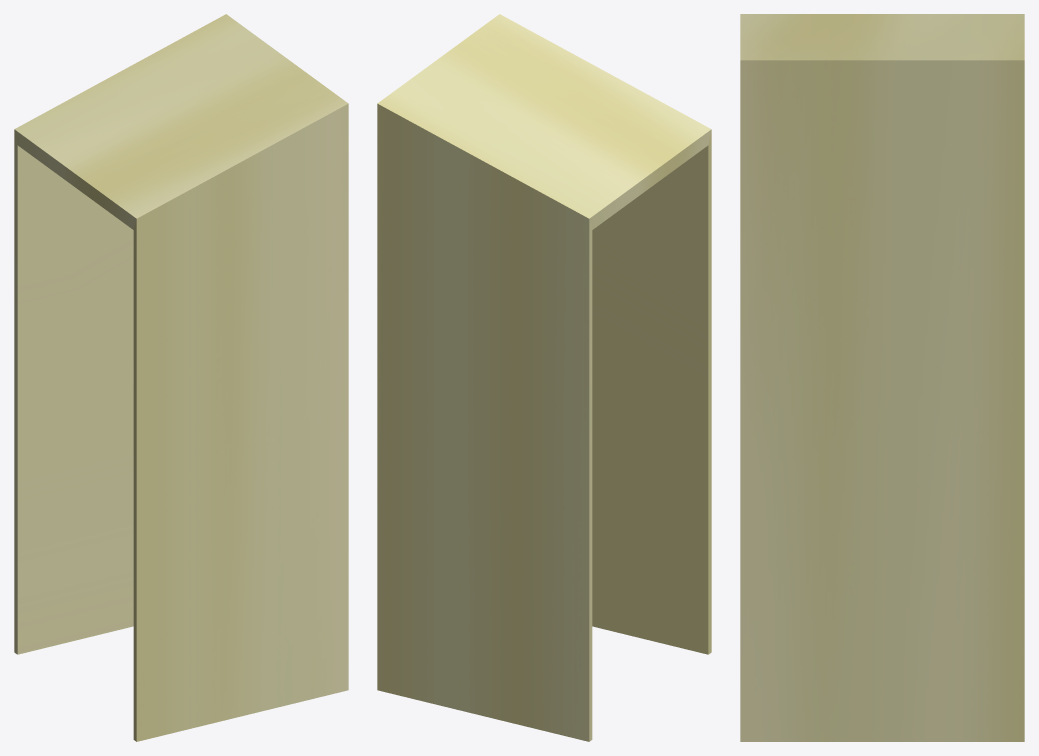
File: podium.fbx
3 renders of one model, left to right at view 1: azimuth 30°, elevation 25°; view 2: azimuth 150°, elevation 25°; view 3: azimuth 270°, elevation 25°, orthographic. The views are drawn at different scales.
Visible parts, largest first — view 1: podium; view 2: podium; view 3: podium.
Boxes of the visible parts, bbox=[...] form: podium: bbox=[14, 14, 348, 741]; podium: bbox=[377, 14, 711, 741]; podium: bbox=[740, 14, 1024, 741].
Bounding box in the file's own units: 160 × 423 × 160.
Materials: 1 (1 with a texture image).
